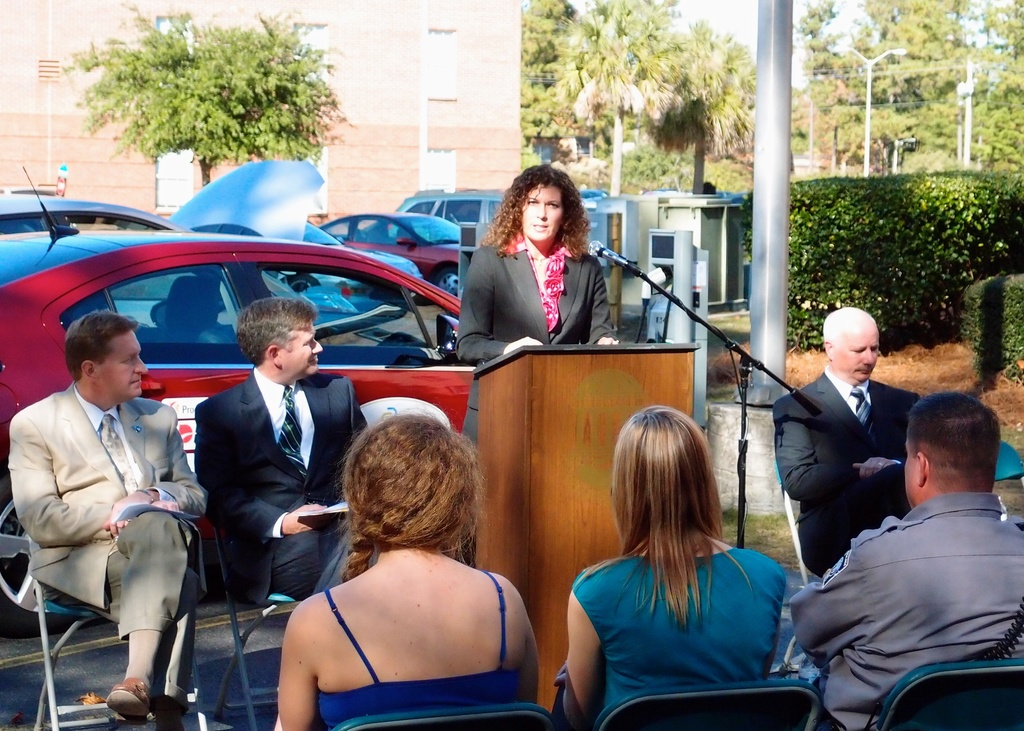Car: (0, 167, 474, 632), (0, 151, 747, 342)
